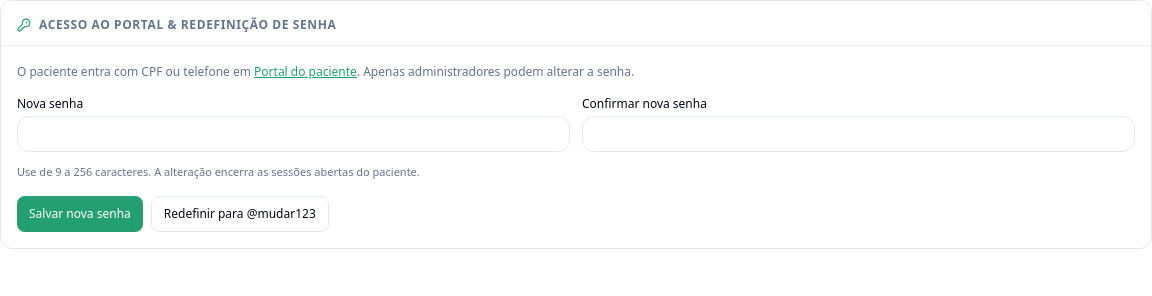
Test: password change failure never announces success
The width and height of the screenshot is (1152, 296).
Click the button "Redefinir para @mudar123": (240, 214) [151,196,329,232]
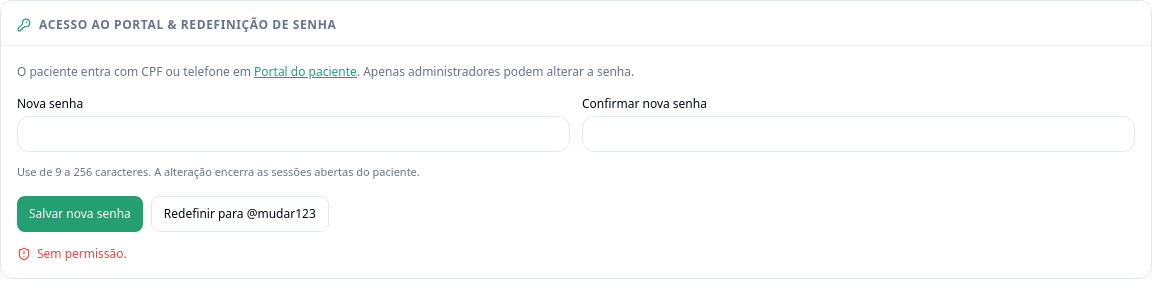
Check: the message reads "Sem permissão.", box [37,244,127,262]
